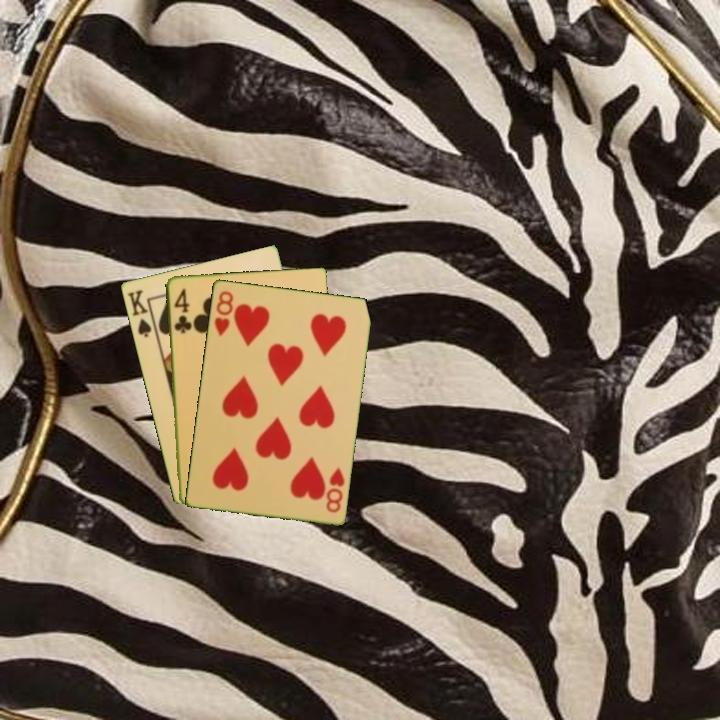4c: (170, 285, 193, 336)
8h: (211, 287, 236, 339), (322, 464, 347, 515)
Ks: (123, 286, 154, 340)
